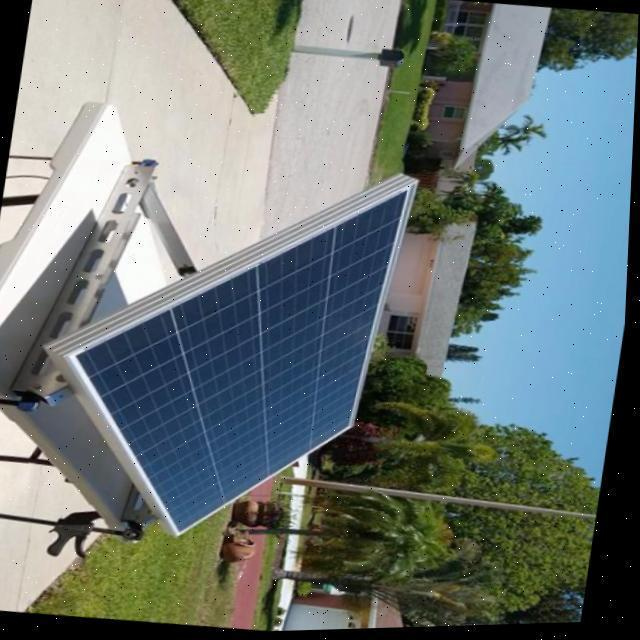Normal Solar Panel: (44, 148, 418, 558)
